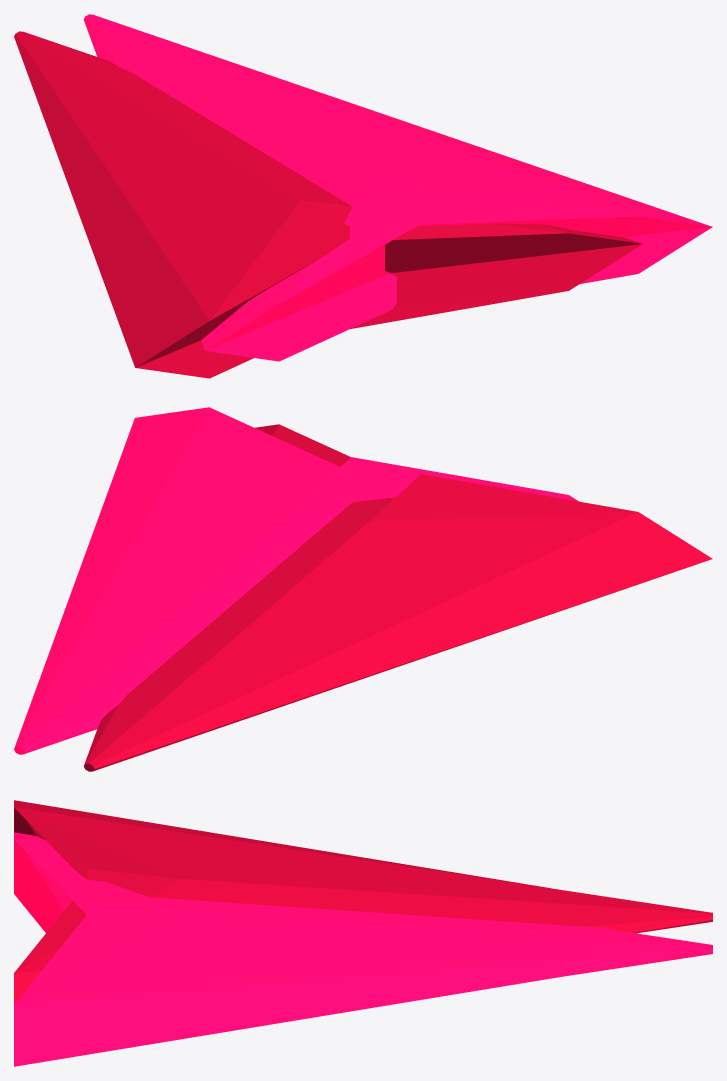
File: Arrow.fbx
3 views of the same model, one above another, from view 1: azimuth 30°, elevation 25°; view 2: azimuth 150°, elevation 25°; view 3: azimuth 270°, elevation 25° (orthographic). The views are drawn at different scales.
Parts seen in each view (by area): view 1: arrow, Pulse; view 2: arrow, Pulse; view 3: Pulse, arrow.
Part boxes in pixels (left/top/right/bottom): arrow: left=14, top=31, right=642, bottom=378; Pulse: left=83, top=14, right=712, bottom=361; arrow: left=83, top=424, right=712, bottom=771; Pulse: left=14, top=407, right=578, bottom=754; Pulse: left=14, top=832, right=712, bottom=1066; arrow: left=14, top=800, right=712, bottom=1004.
Bounding box in the file's own units: 82.91 × 14.04 × 91.86.
